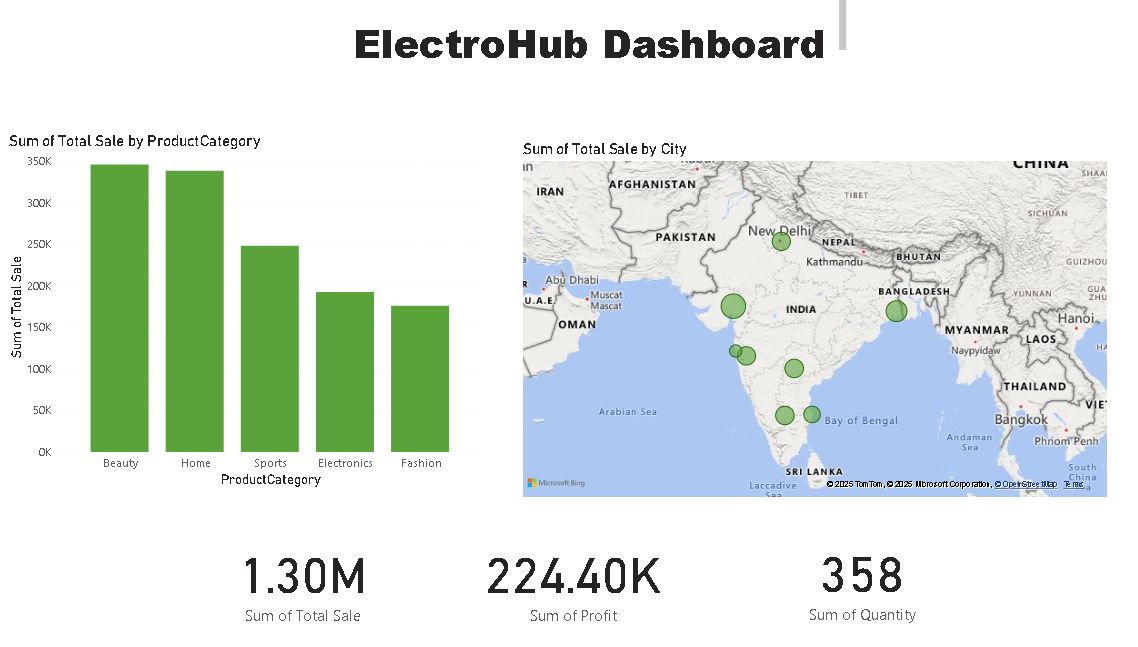

What the dashboard file says about the page in this screenshot:
{"tool":"powerbi","page":{"name":"Page 1","canvas":[1280,720],"ordinal":0},"visuals":[{"type":"clusteredColumnChart","fields":{"Category":["electrohub_sales.ProductCategory"],"Y":["Sum(electrohub_sales.Total Sale)"]},"box":[24.7,150.9,529.7,396.6],"z":0},{"type":"map","fields":{"Category":["electrohub_sales.City"],"Size":["Sum(electrohub_sales.Total Sale)"]},"box":[590.1,159.2,653.2,397.9],"z":1},{"type":"card","fields":{"Values":["Sum(electrohub_sales.Total Sale)"]},"box":[240.1,590.1,226.4,109.8],"z":2},{"type":"card","fields":{"Values":["Sum(electrohub_sales.Profit)"]},"box":[506.3,590.1,289.5,109.8],"z":3},{"type":"card","fields":{"Values":["Sum(electrohub_sales.Quantity)"]},"box":[878.2,587.3,179.8,112.5],"z":4},{"type":"textbox","box":[389.7,0,566.7,76.8],"z":5}]}

Visuals, with their boxes in screenshot pixels (x1, y1, x2, y2), scaled from the page's 1280x720 canvas onto the 1138x647 screenshot:
clusteredColumnChart - electrohub_sales.ProductCategory x Sum(electrohub_sales.Total Sale): pyautogui.locateOnScreen(22, 136, 493, 492)
map - electrohub_sales.City x Sum(electrohub_sales.Total Sale): pyautogui.locateOnScreen(525, 143, 1105, 501)
card - Sum(electrohub_sales.Total Sale): pyautogui.locateOnScreen(213, 530, 415, 629)
card - Sum(electrohub_sales.Profit): pyautogui.locateOnScreen(450, 530, 708, 629)
card - Sum(electrohub_sales.Quantity): pyautogui.locateOnScreen(781, 528, 941, 629)
textbox: pyautogui.locateOnScreen(346, 0, 850, 69)
